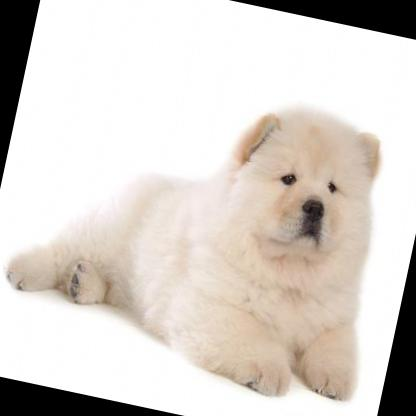chow: (0, 52, 414, 411)
